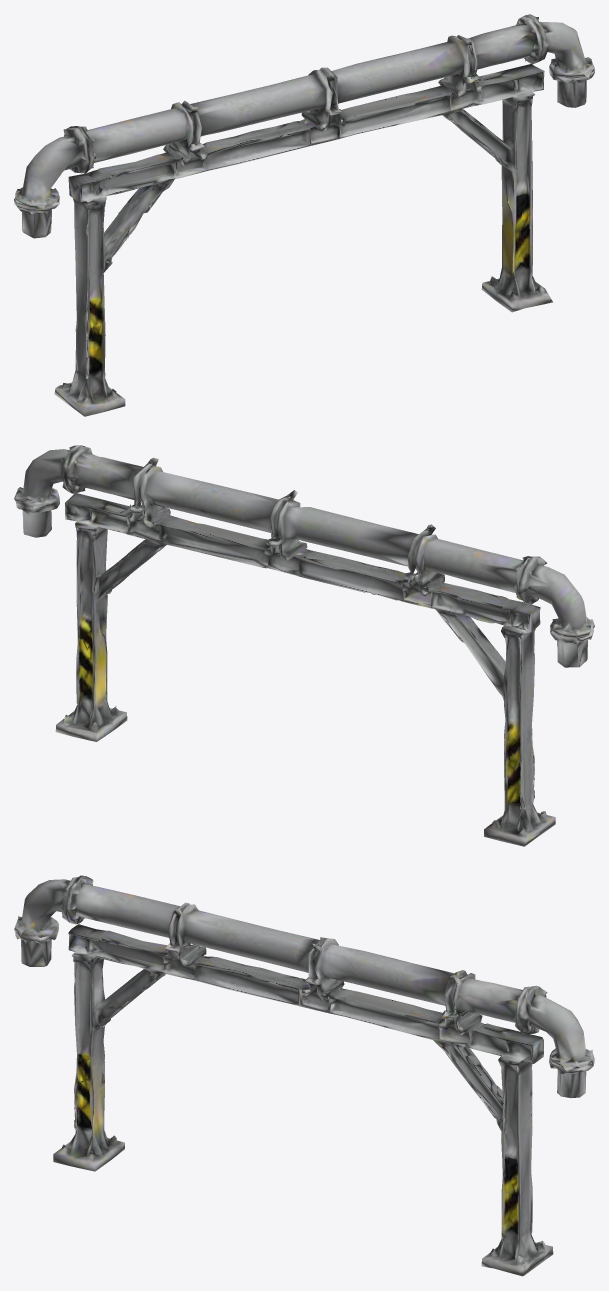
Rendered from veh-d-pipe.glb.
The picture shows the model from 3 angles, top to bottom: view 1: azimuth 30°, elevation 25°; view 2: azimuth 150°, elevation 25°; view 3: azimuth 330°, elevation 25°; orthographic projection.
Visible parts, largest first — view 1: tripo_node_e7ae3d2b-89ff-455a-a314-f3ac96e5232c; view 2: tripo_node_e7ae3d2b-89ff-455a-a314-f3ac96e5232c; view 3: tripo_node_e7ae3d2b-89ff-455a-a314-f3ac96e5232c.
Boxes of the visible parts, <box> form: tripo_node_e7ae3d2b-89ff-455a-a314-f3ac96e5232c: <box>14,14,594,416</box>; tripo_node_e7ae3d2b-89ff-455a-a314-f3ac96e5232c: <box>14,445,594,846</box>; tripo_node_e7ae3d2b-89ff-455a-a314-f3ac96e5232c: <box>14,875,594,1276</box>.
Size of the model in its own units: 0.9777 by 0.4512 by 0.0907.
1 material, 1 textured.
